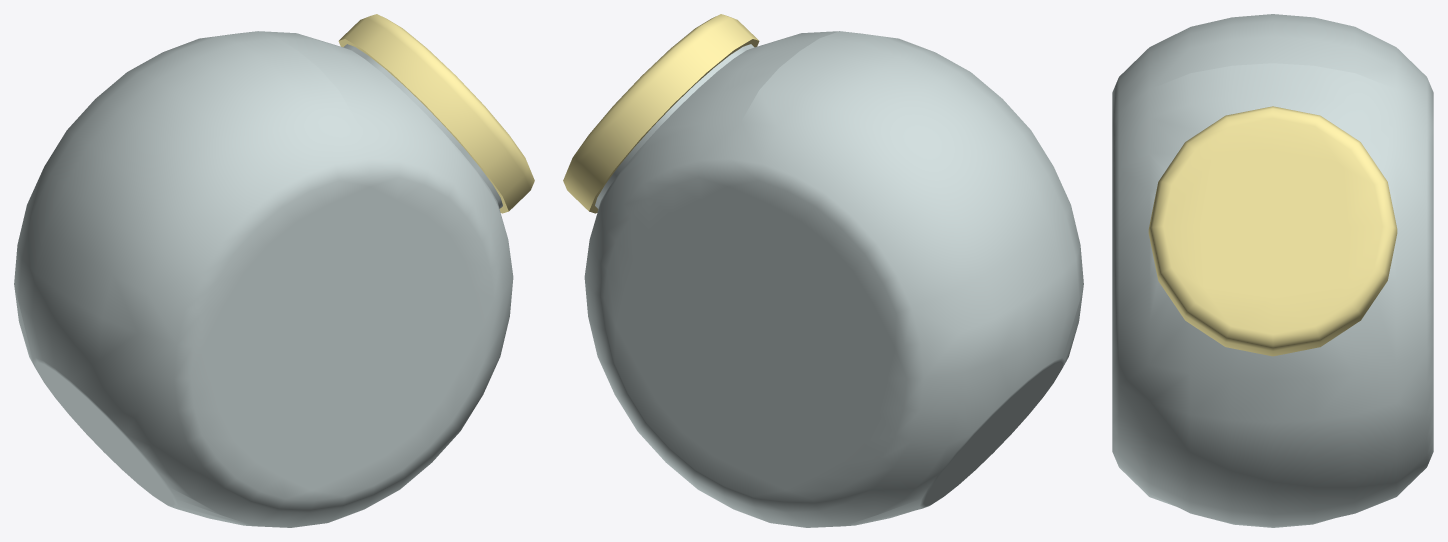
Rendered from FishInGlassJar_01.fbx.
The picture shows the model from 3 angles, left to right: view 1: azimuth 30°, elevation 25°; view 2: azimuth 150°, elevation 25°; view 3: azimuth 270°, elevation 25°; orthographic projection. The views are drawn at different scales.
Parts seen in each view (by area): view 1: FishInGlassJar_01; view 2: FishInGlassJar_01; view 3: FishInGlassJar_01.
Part boxes in pixels (x1,y1,x2,y2): FishInGlassJar_01: [14, 14, 534, 527]; FishInGlassJar_01: [563, 14, 1083, 527]; FishInGlassJar_01: [1112, 14, 1433, 527].
Bounding box in the file's own units: 5.59 × 5.02 × 3.31.
